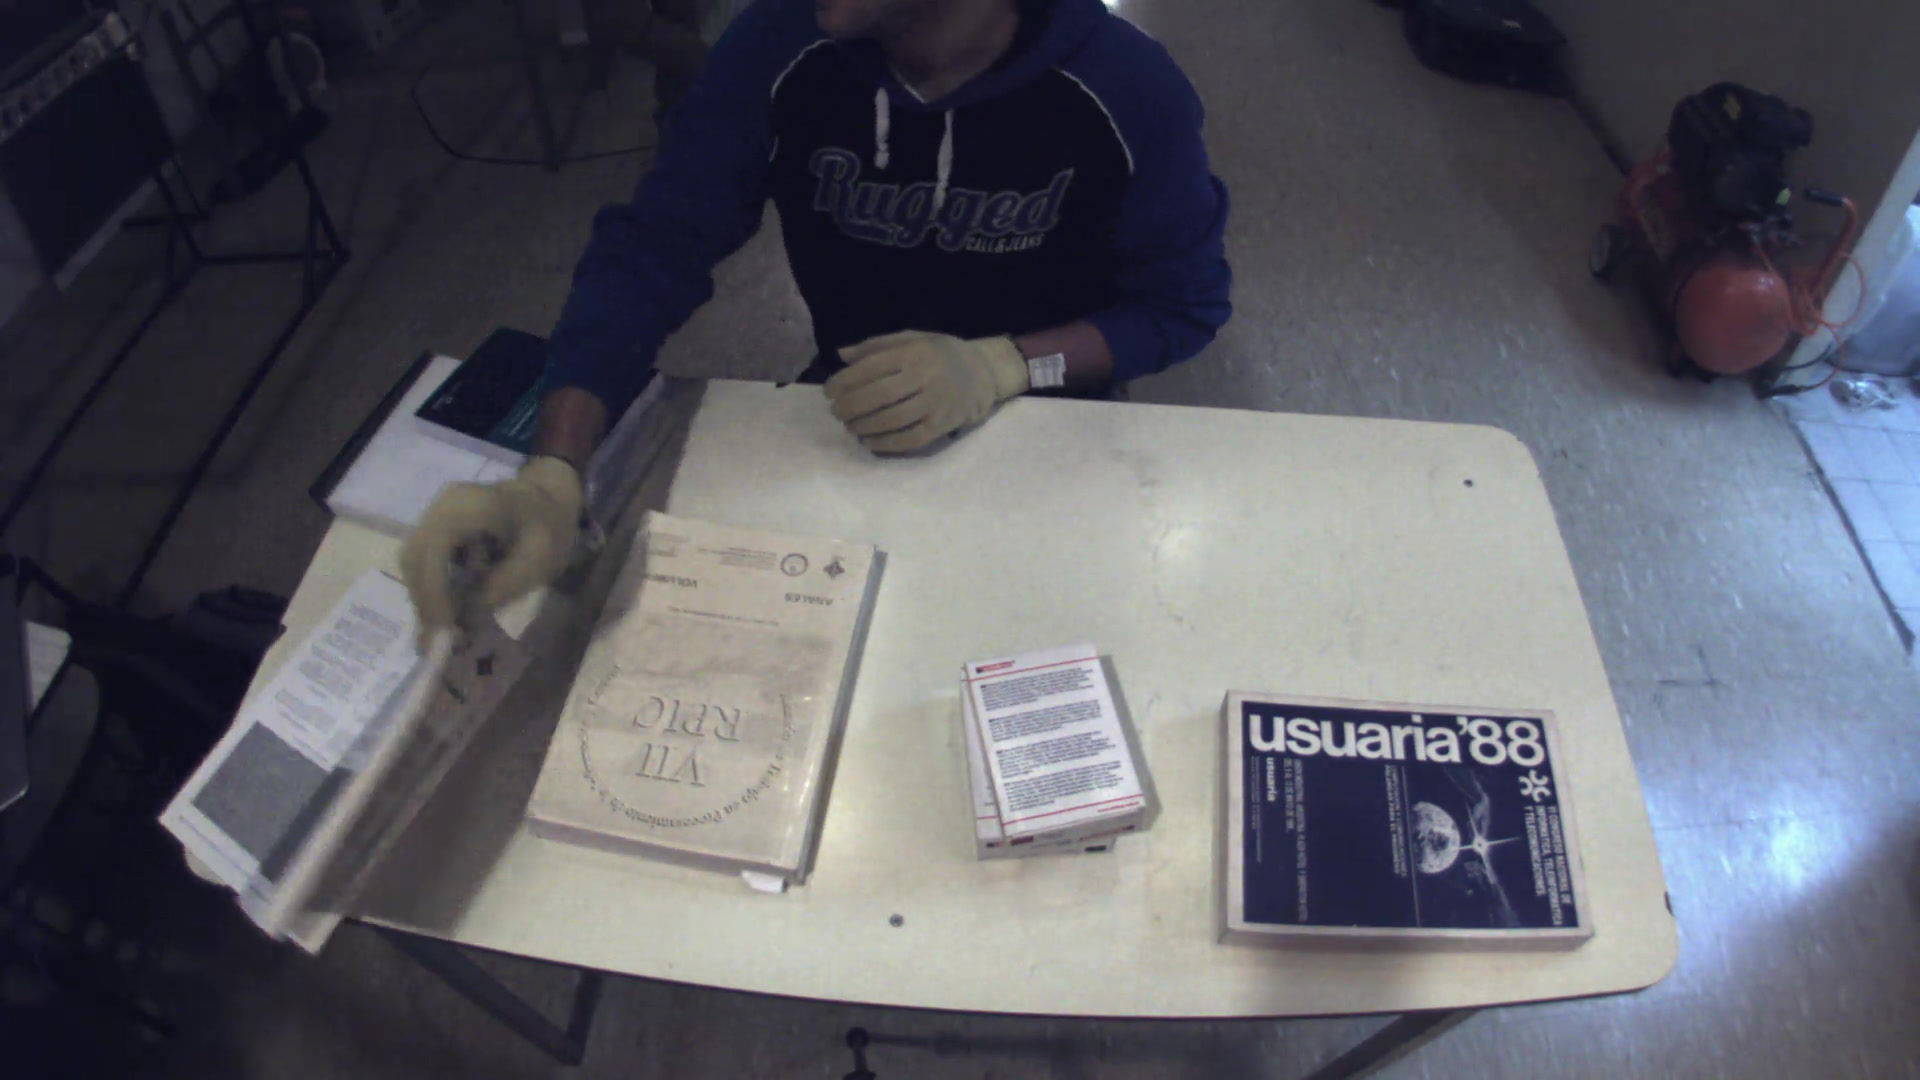hand: (381, 444, 585, 647), (822, 306, 1043, 456)
